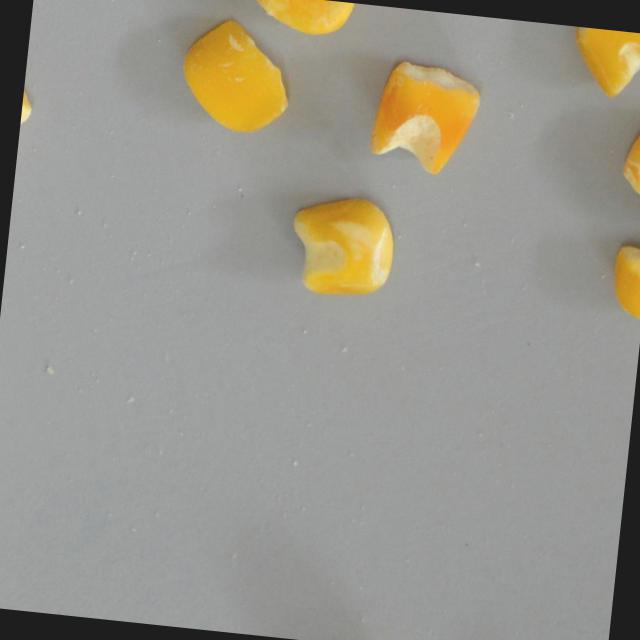dañado: (356, 46, 491, 180), (168, 11, 299, 141), (282, 185, 401, 304), (564, 25, 640, 103), (14, 66, 35, 173)
no_canjicado: (603, 224, 640, 325)
pelicula: (243, 0, 358, 40), (609, 104, 640, 231)
